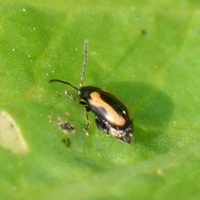insect: (49, 40, 132, 142)
